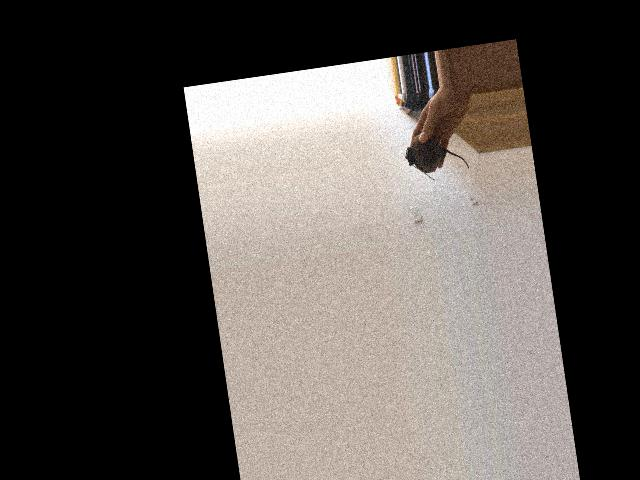beet: (402, 127, 470, 184)
